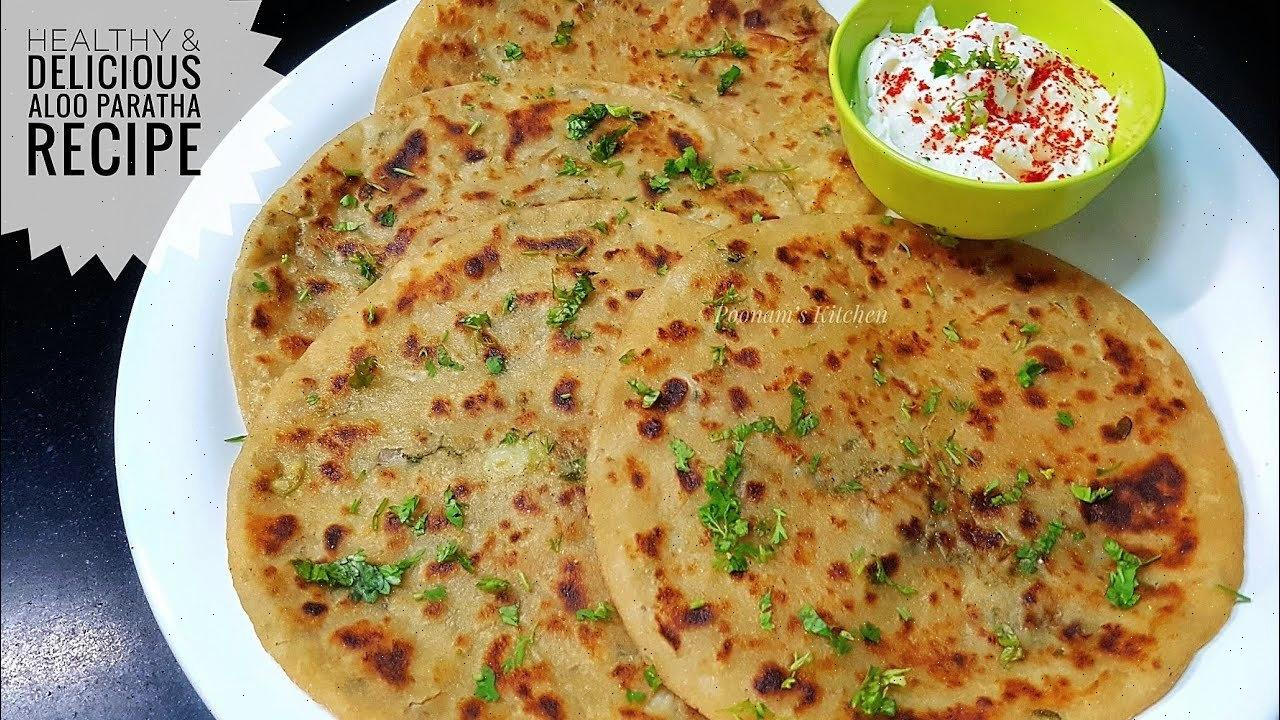paratha: (229, 178, 1257, 720)
yogurt: (831, 0, 1165, 176)
